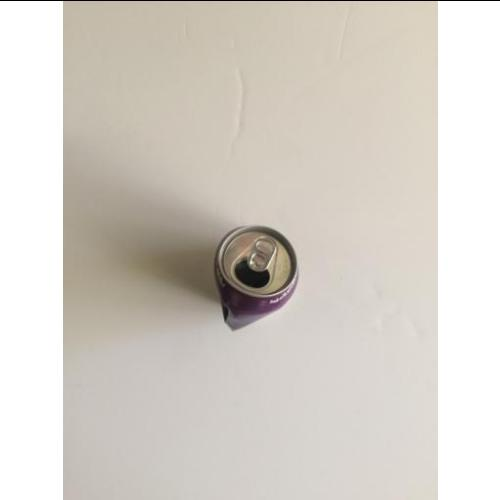metal: (212, 228, 300, 332)
